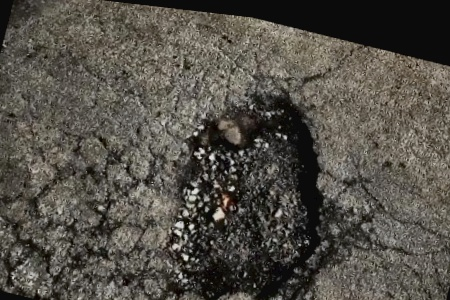pothole: (139, 66, 372, 300)
